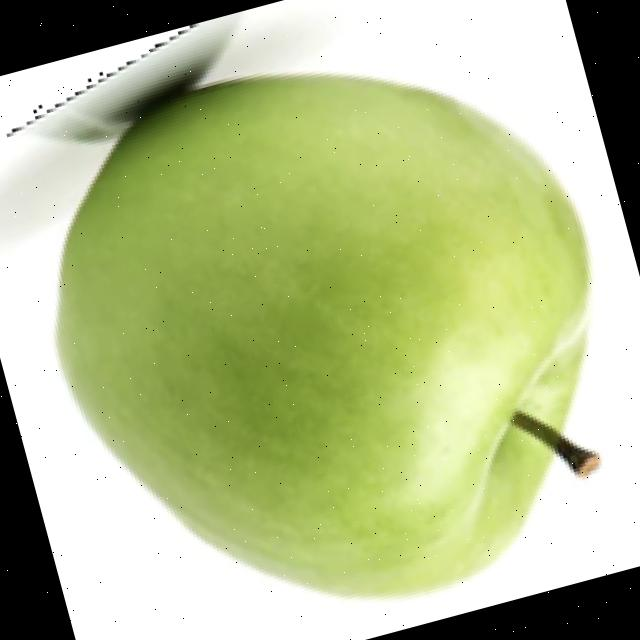apple: (0, 21, 606, 605)
